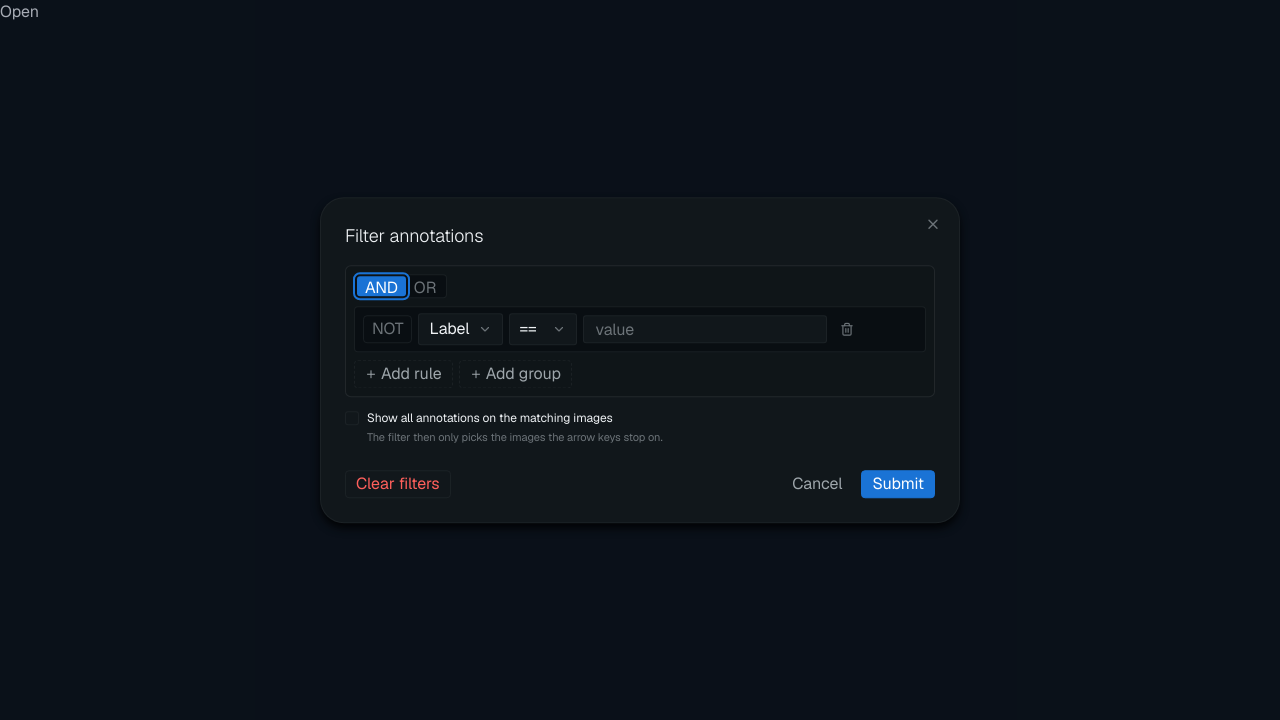
Scenario: FilterBuilderDialog — Add rule / Add group › '+ Add group' nests a sub-group with one rule inside
This screenshot has width=1280, height=720.
Expected: the number of elements with test id "filter-group" is 1, [345,265,935,397]
Click the button with test id "filter-add-group" at (515, 374), box [459,360,572,388]
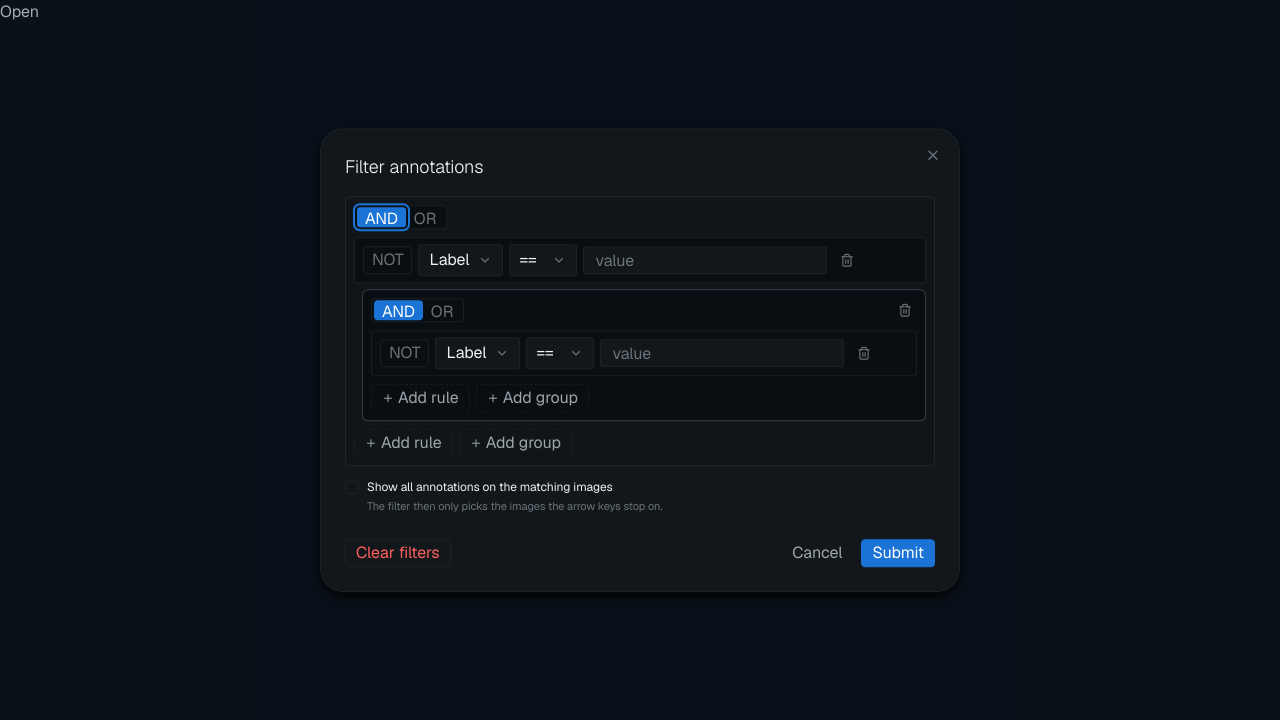
Expected: the number of elements with test id "filter-group" is 2, [345,196,935,466]; [362,289,926,421]
Expected: the number of elements with test id "filter-rule-row" is 2, [354,237,926,283]; [371,330,917,376]
